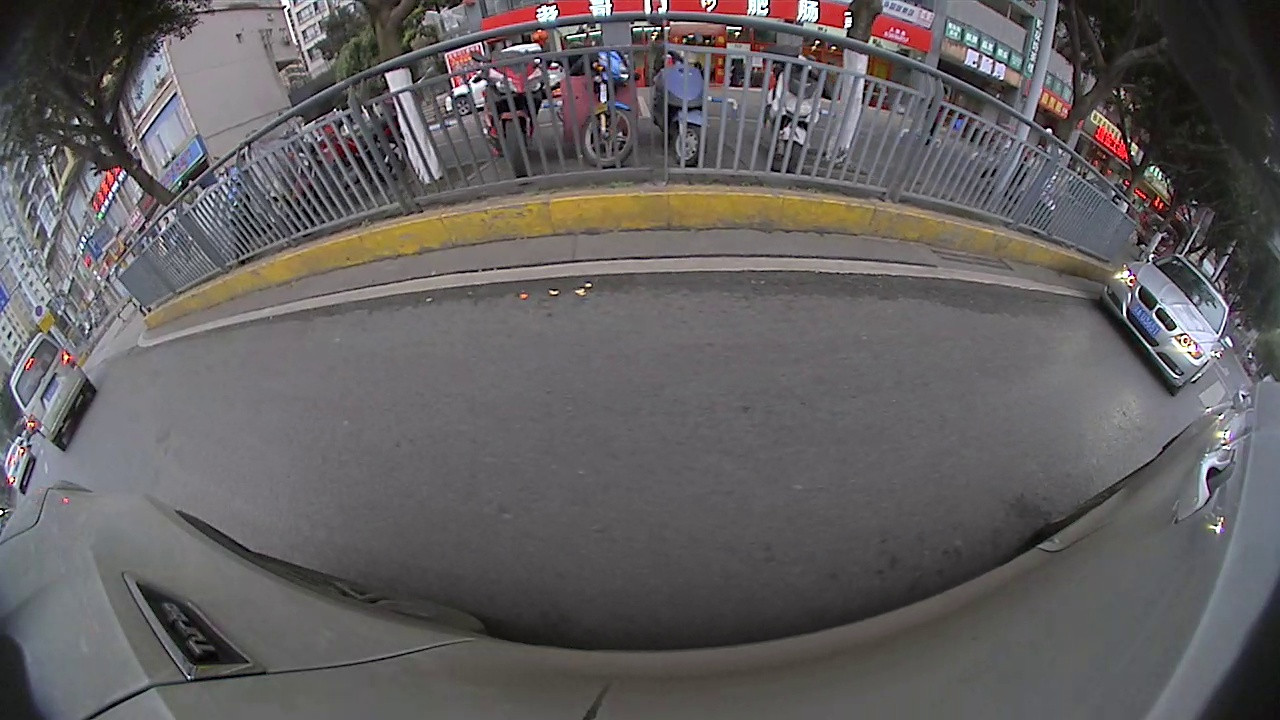car: (1094, 245, 1238, 398), (7, 326, 100, 450)
front: (580, 106, 638, 168), (670, 124, 703, 163), (449, 95, 477, 121)
rider: (466, 34, 550, 192), (561, 32, 641, 172), (652, 38, 720, 174), (767, 43, 833, 174)
